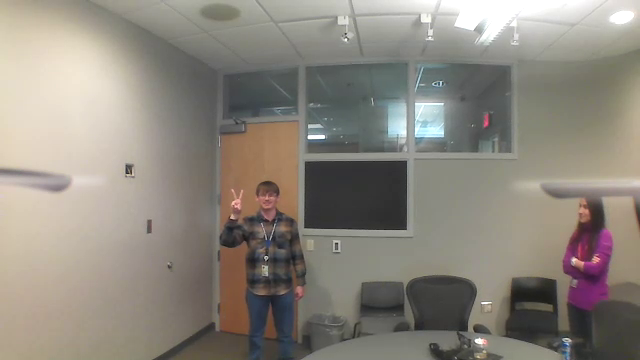peace: (227, 184, 248, 214)
